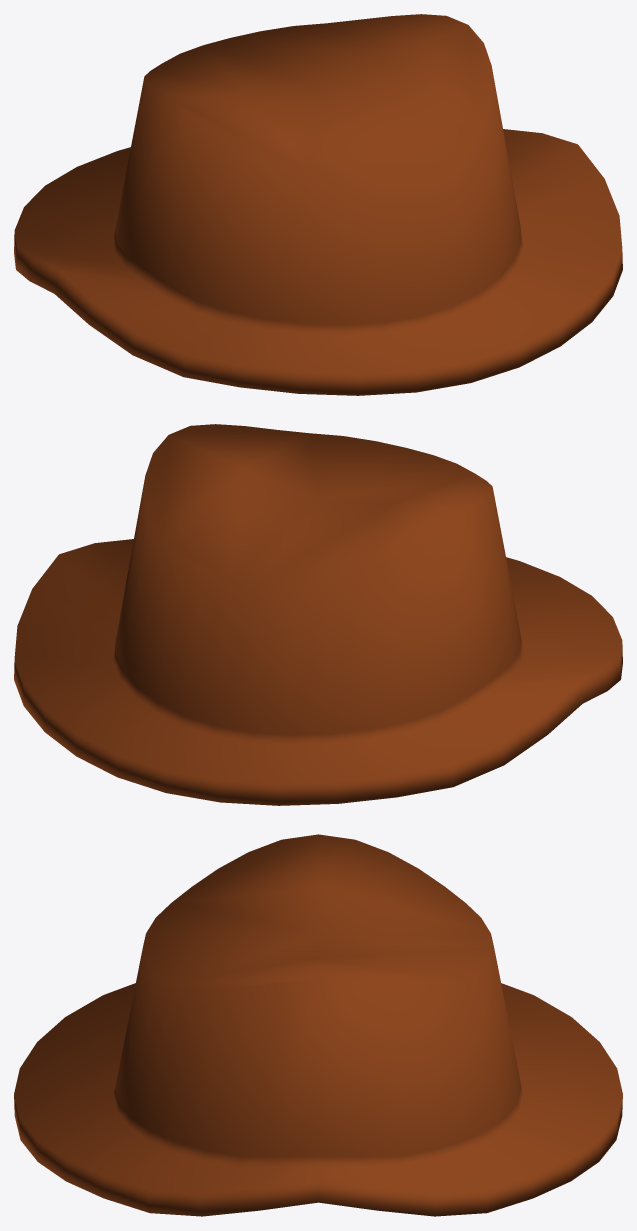
The model's file is ChapeuCowboy.fbx.
The picture shows the model from 3 angles, top to bottom: view 1: azimuth 30°, elevation 25°; view 2: azimuth 150°, elevation 25°; view 3: azimuth 270°, elevation 25°; orthographic projection.
Parts seen in each view (by area): view 1: Circle; view 2: Circle; view 3: Circle.
Part boxes in pixels (bbox=[...]): Circle: bbox=[14, 14, 622, 395]; Circle: bbox=[14, 424, 622, 805]; Circle: bbox=[14, 834, 622, 1216].
Size of the model in its own units: 77.42 by 30.45 by 77.6.
